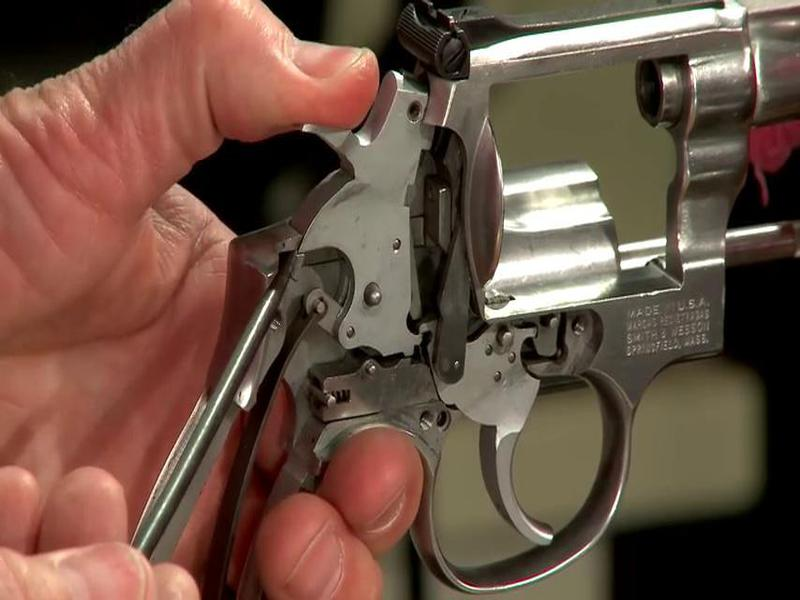Revolver: (92, 7, 773, 556)
